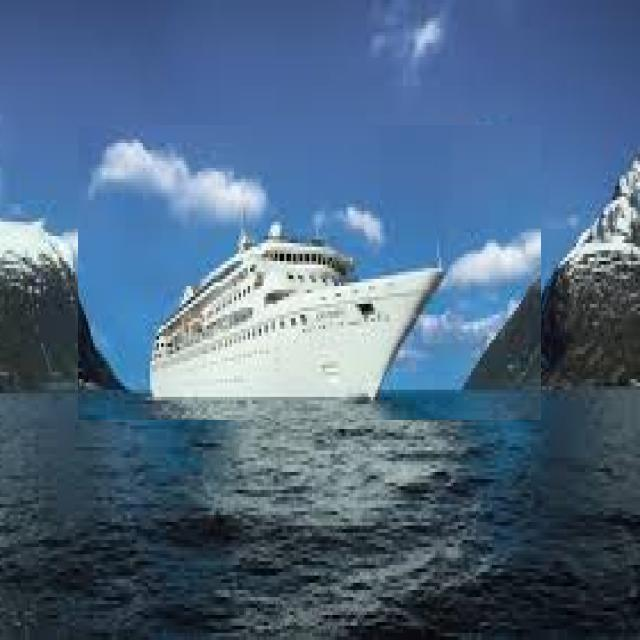PassengerShip: (78, 125, 541, 420)
